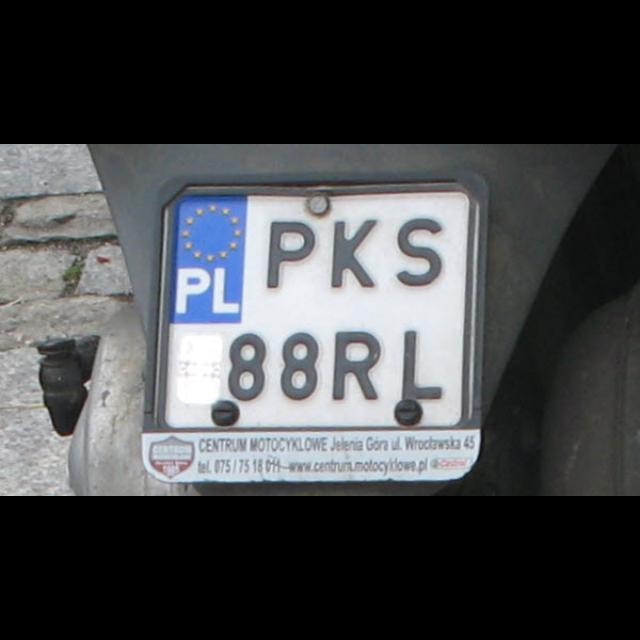pl_license_plate: (169, 192, 463, 424)
